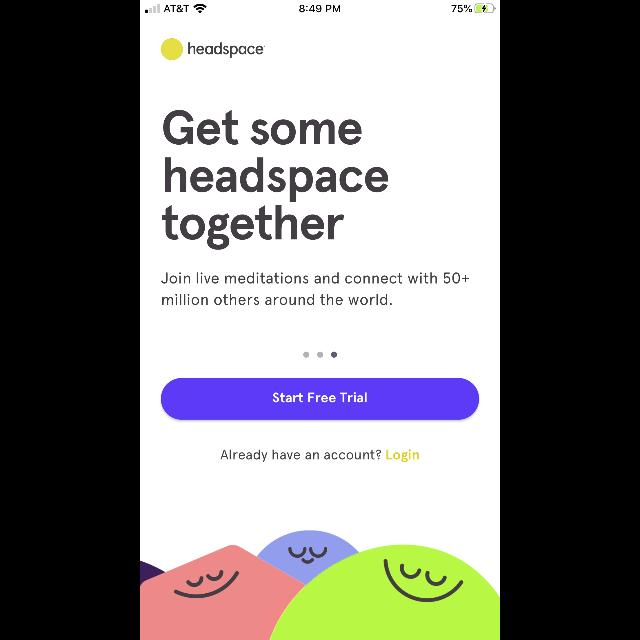image: (140, 531, 500, 639), (161, 38, 183, 60)
pageindicator: (304, 352, 336, 358)
text: (162, 110, 388, 250), (161, 272, 469, 306), (221, 450, 381, 462), (188, 42, 266, 58), (387, 450, 419, 462)
textbutton: (161, 378, 479, 419)
uppertaskbar: (140, 0, 500, 14)
